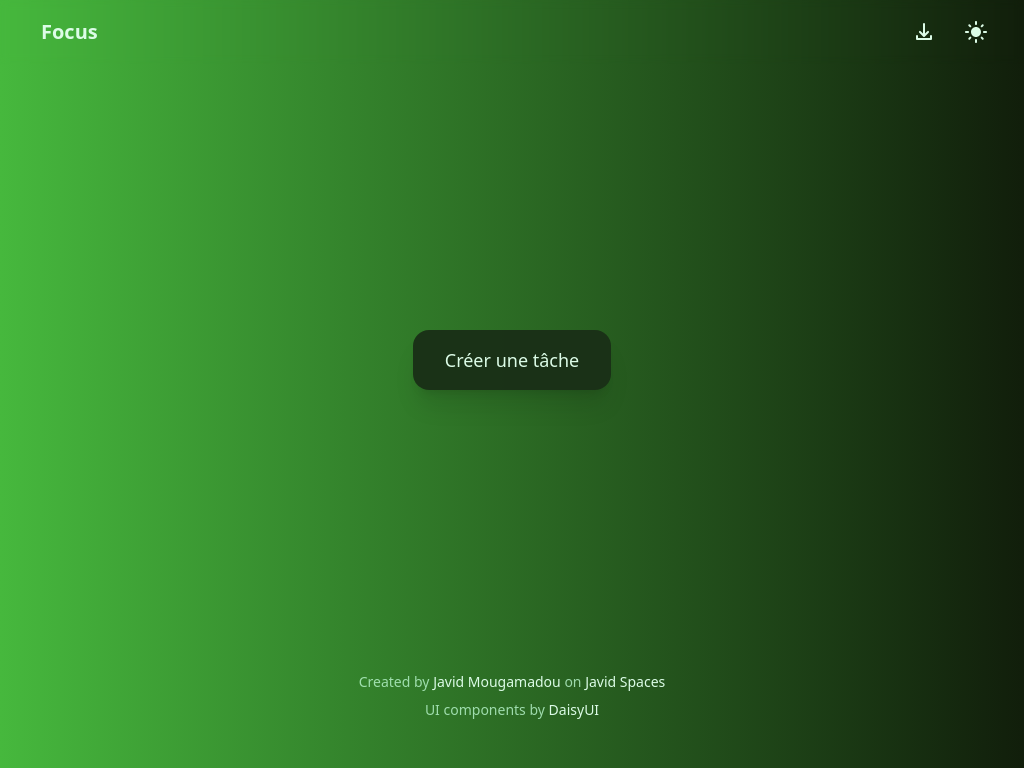
App › affiche le formulaire après clic sur Créer une tâche
This screenshot has width=1024, height=768.
Click the button "Créer une tâche". click: (512, 360)
box: [413,80,611,640]
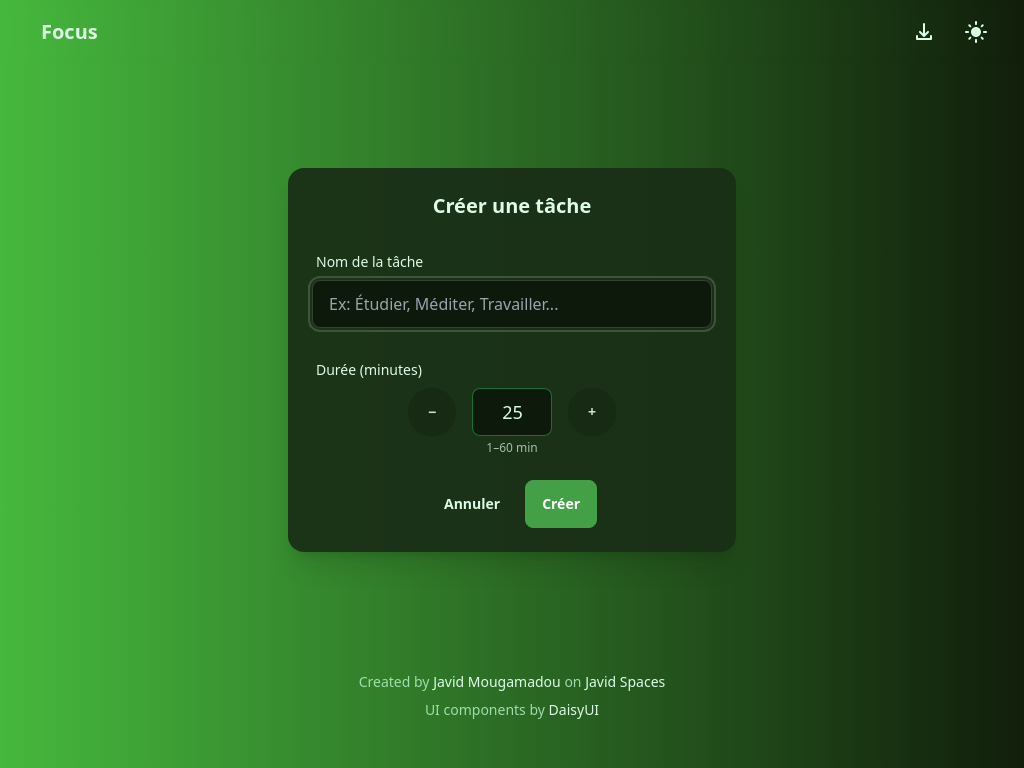
Expected: the text "Nom de la tâche" is shown, [316,252,423,272]
Expected: the field labelled "Nom de la tâche" is shown, [312,280,712,328]
